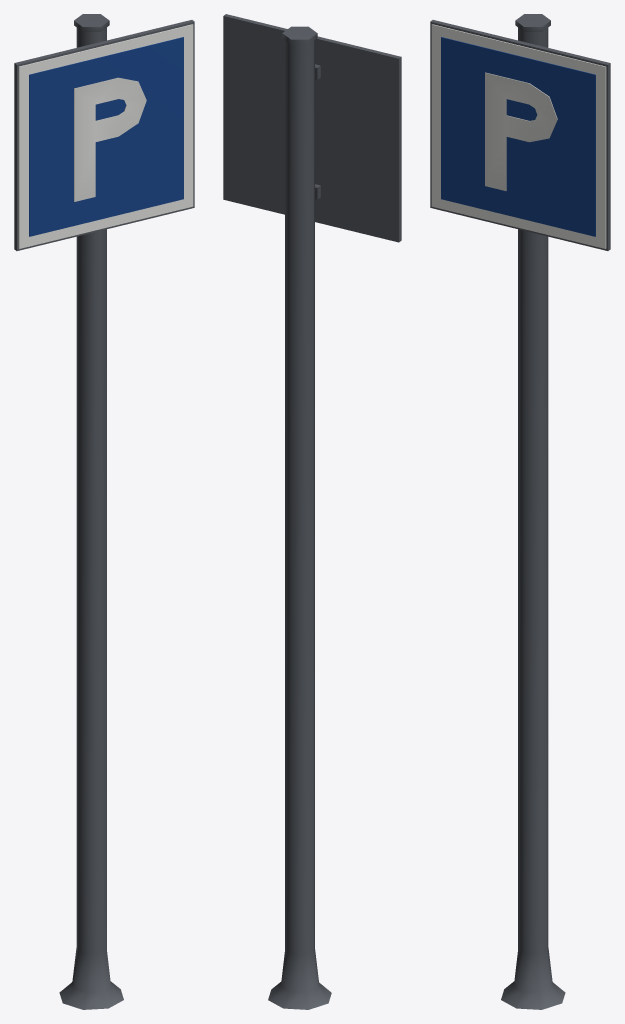
File: parkingSign.far.glb
3 renders of one model, left to right at view 1: azimuth 30°, elevation 25°; view 2: azimuth 150°, elevation 25°; view 3: azimuth 330°, elevation 25°, orthographic.
Parts seen in each view (by area): view 1: parkingSign; view 2: parkingSign; view 3: parkingSign.
Part boxes in pixels (bbox=[...]): parkingSign: bbox=[14, 14, 194, 1009]; parkingSign: bbox=[223, 14, 401, 1009]; parkingSign: bbox=[430, 14, 610, 1009].
Bounding box in the file's own units: 0.46 × 2.41 × 0.15.
